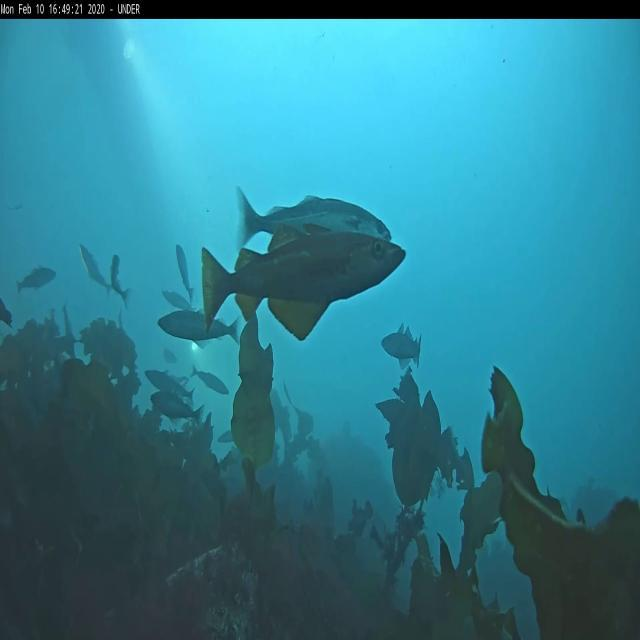fish: (202, 225, 408, 337), (237, 192, 394, 247), (161, 310, 240, 349), (150, 390, 202, 428), (145, 366, 195, 404), (78, 242, 112, 296), (381, 326, 422, 368), (190, 364, 230, 395), (15, 264, 58, 292), (174, 246, 194, 304), (110, 256, 128, 306), (164, 290, 196, 316)
